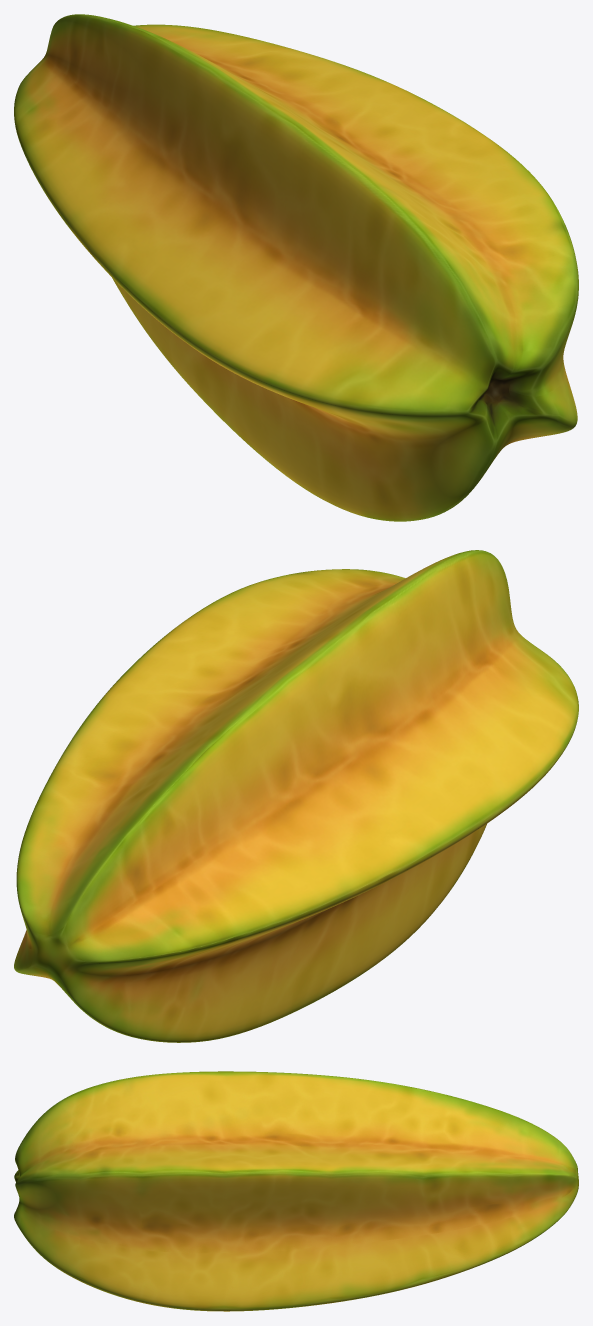
File: Starfruit.obj
3 views of the same model, one above another, from view 1: azimuth 30°, elevation 25°; view 2: azimuth 150°, elevation 25°; view 3: azimuth 270°, elevation 25° (orthographic). The views are drawn at different scales.
Visible parts, largest first — view 1: StarFruit; view 2: StarFruit; view 3: StarFruit.
Boxes of the visible parts, <box> form: StarFruit: <box>14,14,578,521</box>; StarFruit: <box>14,550,578,1042</box>; StarFruit: <box>14,1071,578,1311</box>.
Bounding box in the file's own units: 8.59 × 8.97 × 20.6.
